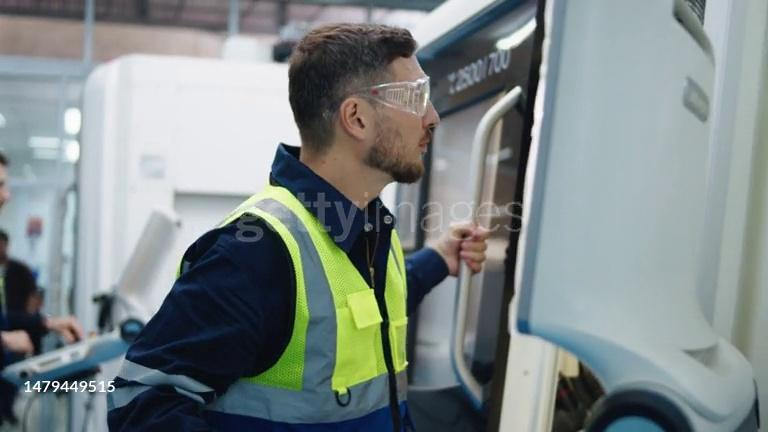person: (106, 23, 490, 432), (0, 149, 83, 430)
